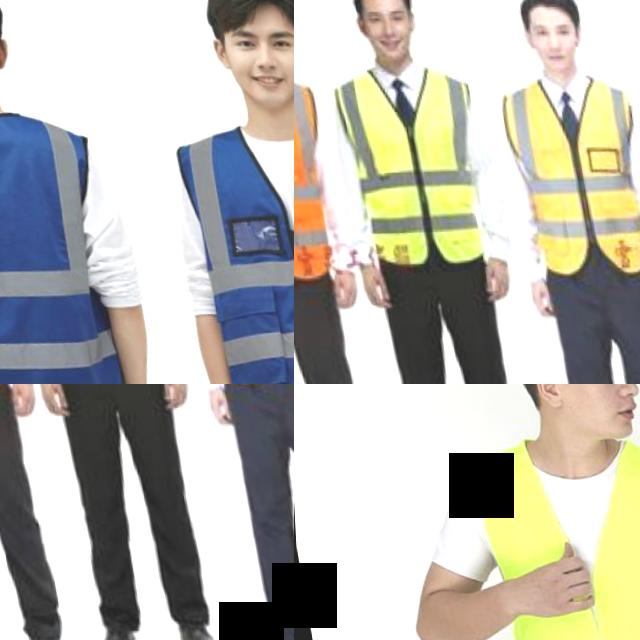vest: (470, 415, 640, 640), (0, 89, 129, 384), (184, 105, 294, 384), (336, 53, 480, 265), (501, 58, 640, 275), (294, 61, 330, 291)
